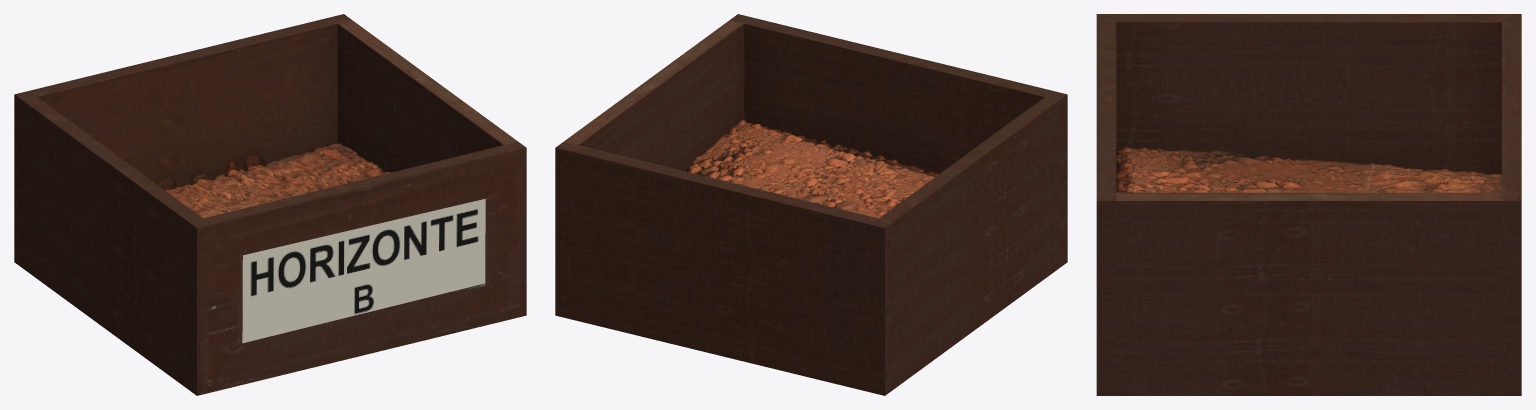
The model's file is horizonte_03_03_b.glb.
The picture shows the model from 3 angles, left to right: view 1: azimuth 30°, elevation 25°; view 2: azimuth 150°, elevation 25°; view 3: azimuth 270°, elevation 25°; orthographic projection. The views are drawn at different scales.
Parts seen in each view (by area): view 1: Parede_Frontal_h03, Parede_Traseira_h03, Lateral_Esquerda_h03, Etiqueta_h03, Lateral_Direita_h03, Conteudo_h03; view 2: Parede_Traseira_h03, Lateral_Esquerda_h03, Parede_Frontal_h03, Lateral_Direita_h03, Conteudo_h03; view 3: Lateral_Direita_h03, Lateral_Esquerda_h03, Conteudo_h03, Parede_Frontal_h03, Parede_Traseira_h03.
Part boxes in pixels (box(x1,y1,x2,y2)): Parede_Frontal_h03: box(188, 141, 526, 395); Parede_Traseira_h03: box(14, 14, 351, 267); Lateral_Esquerda_h03: box(22, 97, 202, 389); Etiqueta_h03: box(242, 198, 485, 343); Lateral_Direita_h03: box(337, 20, 517, 172); Conteudo_h03: box(165, 143, 390, 218); Parede_Traseira_h03: box(555, 141, 893, 395); Lateral_Esquerda_h03: box(879, 97, 1059, 389); Parede_Frontal_h03: box(730, 14, 1067, 267); Lateral_Direita_h03: box(564, 20, 744, 171); Conteudo_h03: box(686, 118, 938, 218); Lateral_Direita_h03: box(1116, 192, 1501, 395); Lateral_Esquerda_h03: box(1116, 14, 1501, 174); Conteudo_h03: box(1116, 146, 1501, 192); Parede_Frontal_h03: box(1096, 14, 1116, 395); Parede_Traseira_h03: box(1502, 14, 1521, 395).
Size of the model in its own units: 0.3 by 0.1459 by 0.2883.
3 materials, 3 textured.
